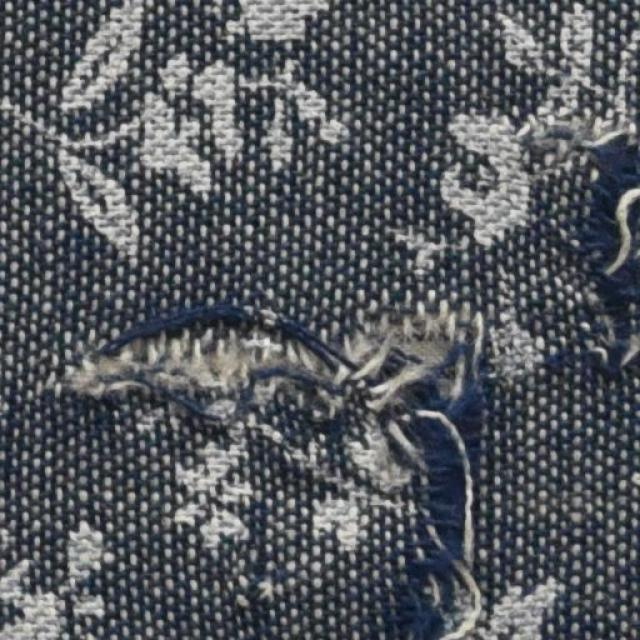Snag: (44, 295, 492, 639), (576, 126, 639, 368)
